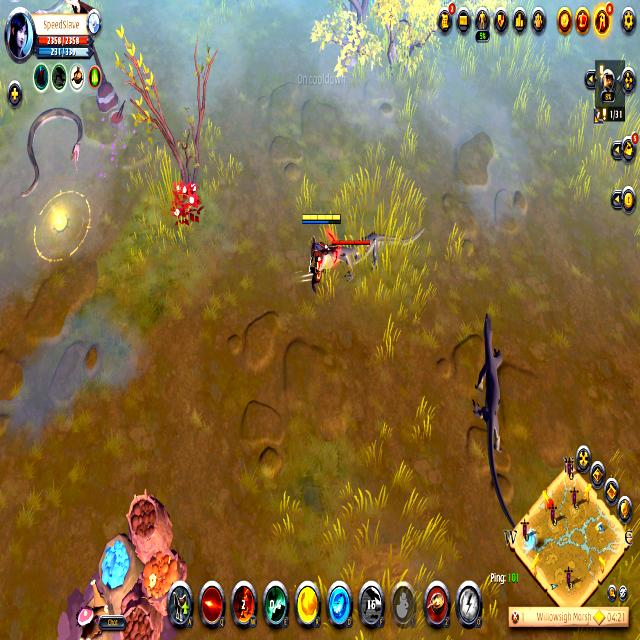ore: (466, 299, 538, 548), (327, 220, 428, 280), (160, 164, 212, 242)
red: (298, 211, 347, 303)
